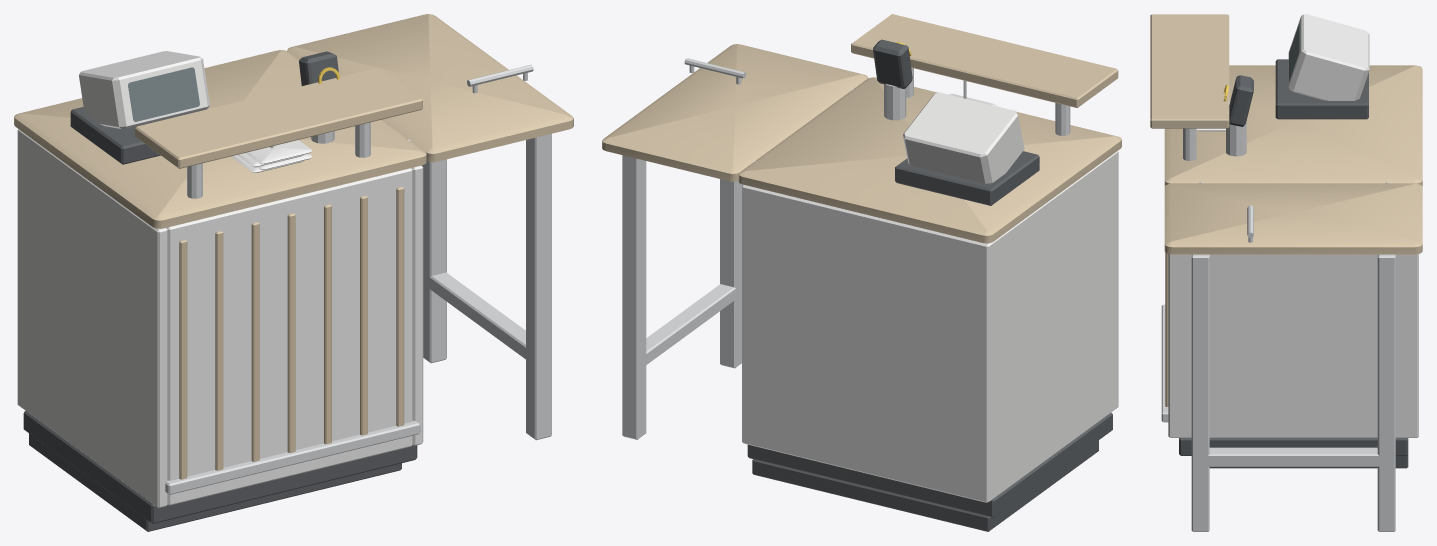
File: laundrette-and-cleaning-drop-off-counter-d8388ade__25545.glb
3 renders of one model, left to right at view 1: azimuth 30°, elevation 25°; view 2: azimuth 150°, elevation 25°; view 3: azimuth 270°, elevation 25°, orthographic. The views are drawn at different scales.
Visible parts, largest first — view 1: drop-off-counter, flap-counter/surface; view 2: drop-off-counter, flap-counter/surface; view 3: drop-off-counter, flap-counter/surface.
Boxes of the visible parts, x1,y1,x2,y2 form: drop-off-counter: [14, 50, 551, 531]; flap-counter/surface: [287, 14, 573, 162]; drop-off-counter: [622, 14, 1121, 531]; flap-counter/surface: [602, 44, 868, 181]; drop-off-counter: [1150, 14, 1422, 531]; flap-counter/surface: [1164, 183, 1422, 254].
Bounding box in the file's own units: 1.21 × 1.12 × 0.76.
